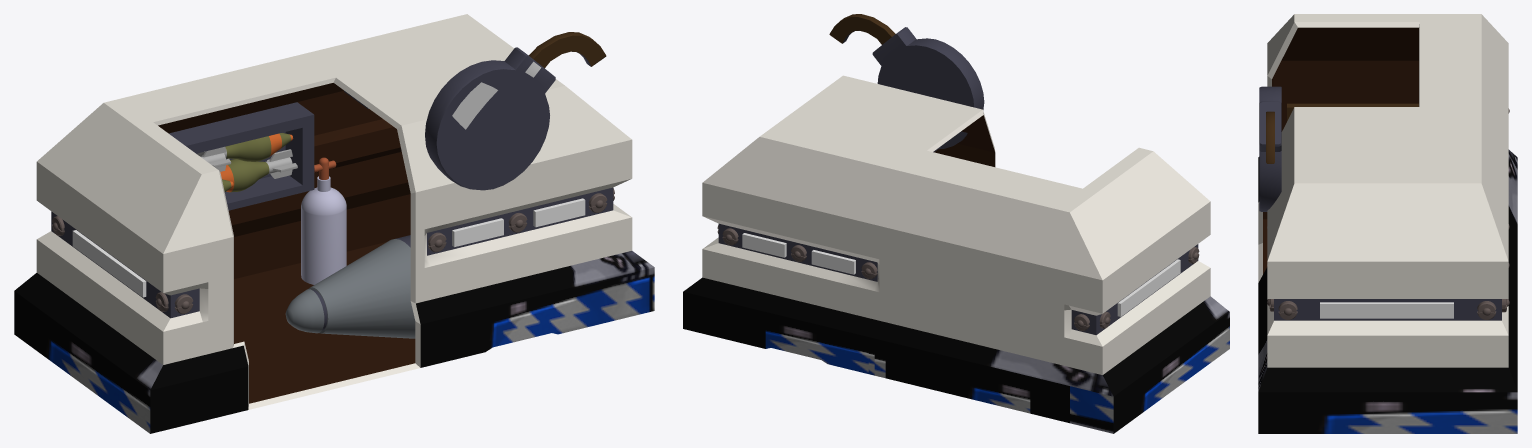
The model's file is Workshop.fbx.
3 views of the same model, side by side, from view 1: azimuth 30°, elevation 25°; view 2: azimuth 150°, elevation 25°; view 3: azimuth 270°, elevation 25° (orthographic). The views are drawn at different scales.
Visible parts, largest first — view 1: Workshop.001; view 2: Workshop.001; view 3: Workshop.001.
Part boxes in pixels (x1,y1,x2,y2): Workshop.001: (14, 14, 654, 433); Workshop.001: (683, 14, 1229, 433); Workshop.001: (1258, 14, 1517, 433).
Size of the model in its own units: 885 by 489 by 413.
